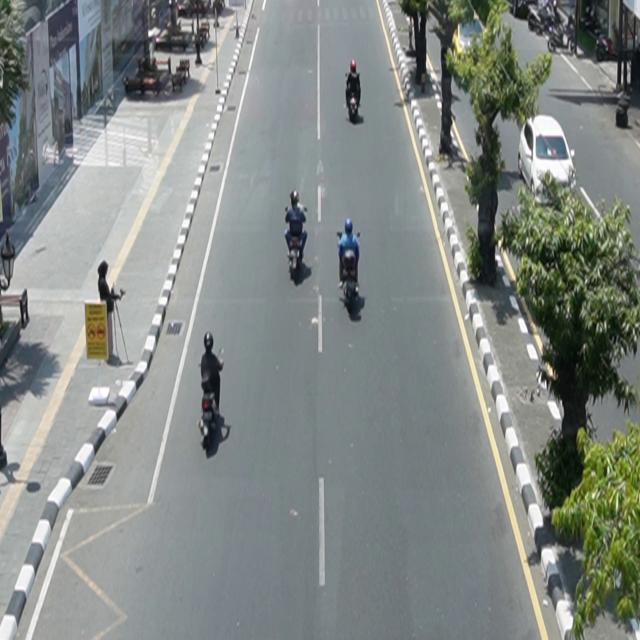car: (519, 114, 577, 201)
